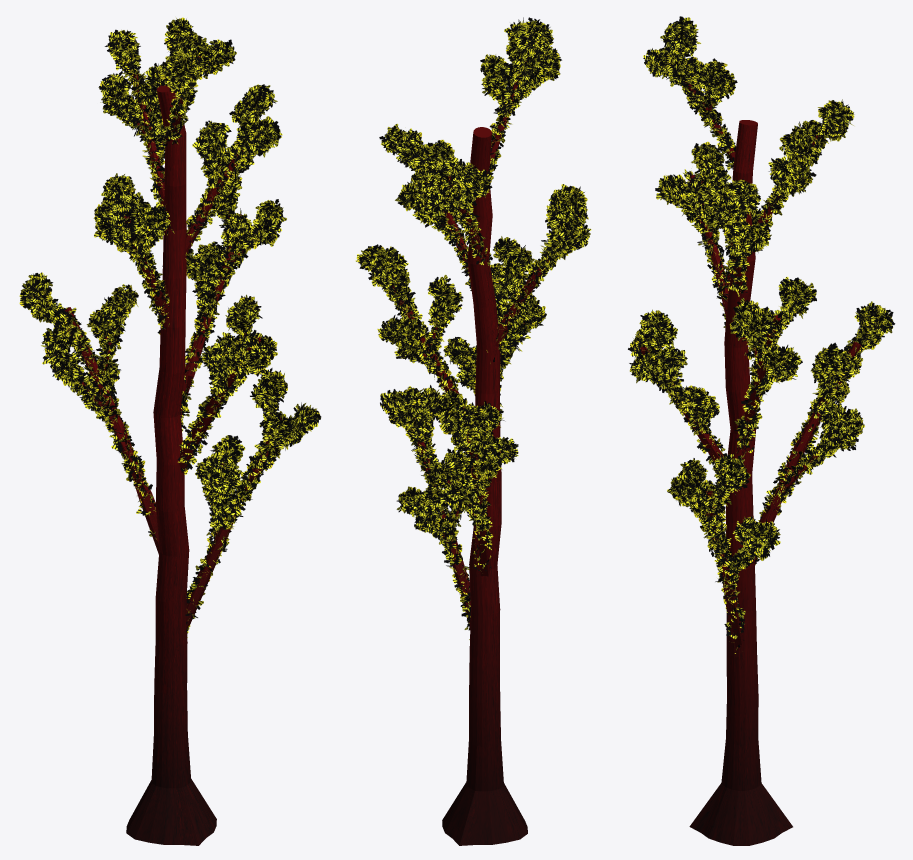
The model's file is baldcypress_v03.glb.
3 renders of one model, left to right at view 1: azimuth 30°, elevation 25°; view 2: azimuth 150°, elevation 25°; view 3: azimuth 270°, elevation 25°, orthographic. The views are drawn at different scales.
Parts seen in each view (by area): view 1: baldcypress_v03; view 2: baldcypress_v03; view 3: baldcypress_v03.
Boxes of the visible parts, x1,y1,x2,y2 form: baldcypress_v03: (19, 17, 321, 845); baldcypress_v03: (355, 17, 591, 845); baldcypress_v03: (628, 16, 895, 845).
Bounding box in the file's own units: 8.67 × 31.87 × 9.92.
Materials: 2 (2 with a texture image).
